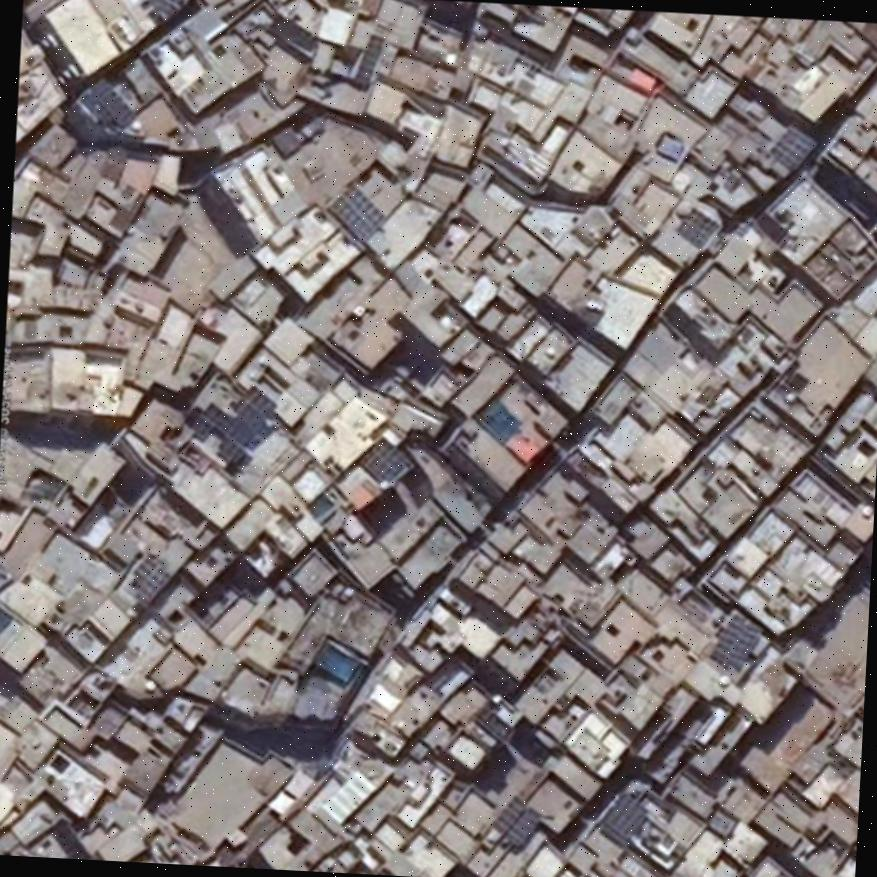Solarpanel: (326, 181, 384, 245), (707, 610, 762, 671), (490, 794, 544, 849), (199, 400, 257, 447), (358, 435, 409, 485), (600, 791, 648, 844), (771, 125, 817, 165), (227, 395, 271, 436), (132, 552, 168, 597), (676, 210, 721, 245), (356, 33, 384, 87), (242, 385, 279, 418)
